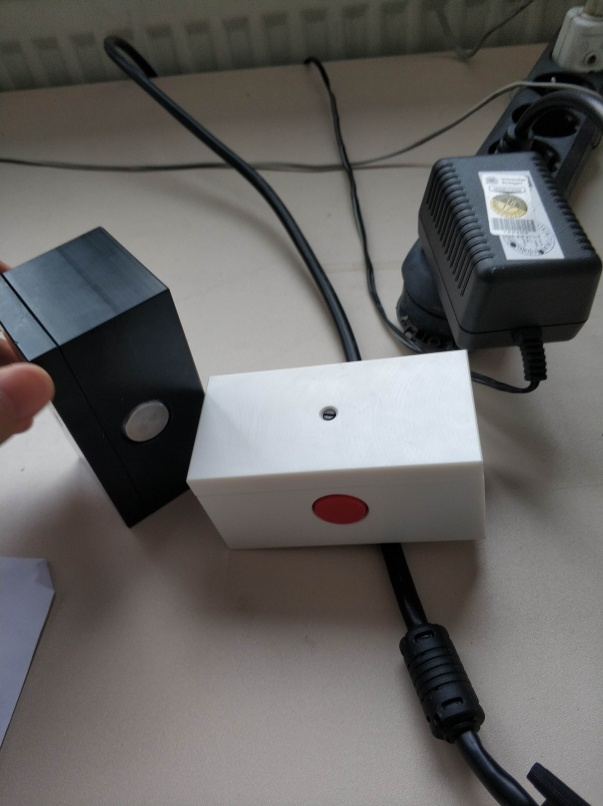black+black+silver: (1, 221, 213, 534)
white+white+red: (184, 348, 491, 552)
